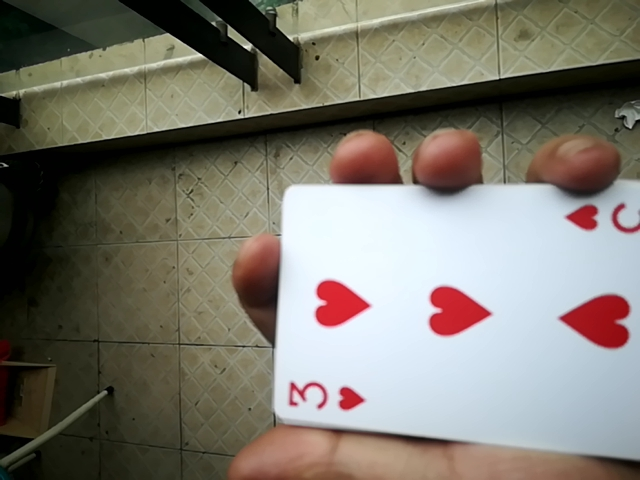hx 3: (268, 187, 638, 460)
